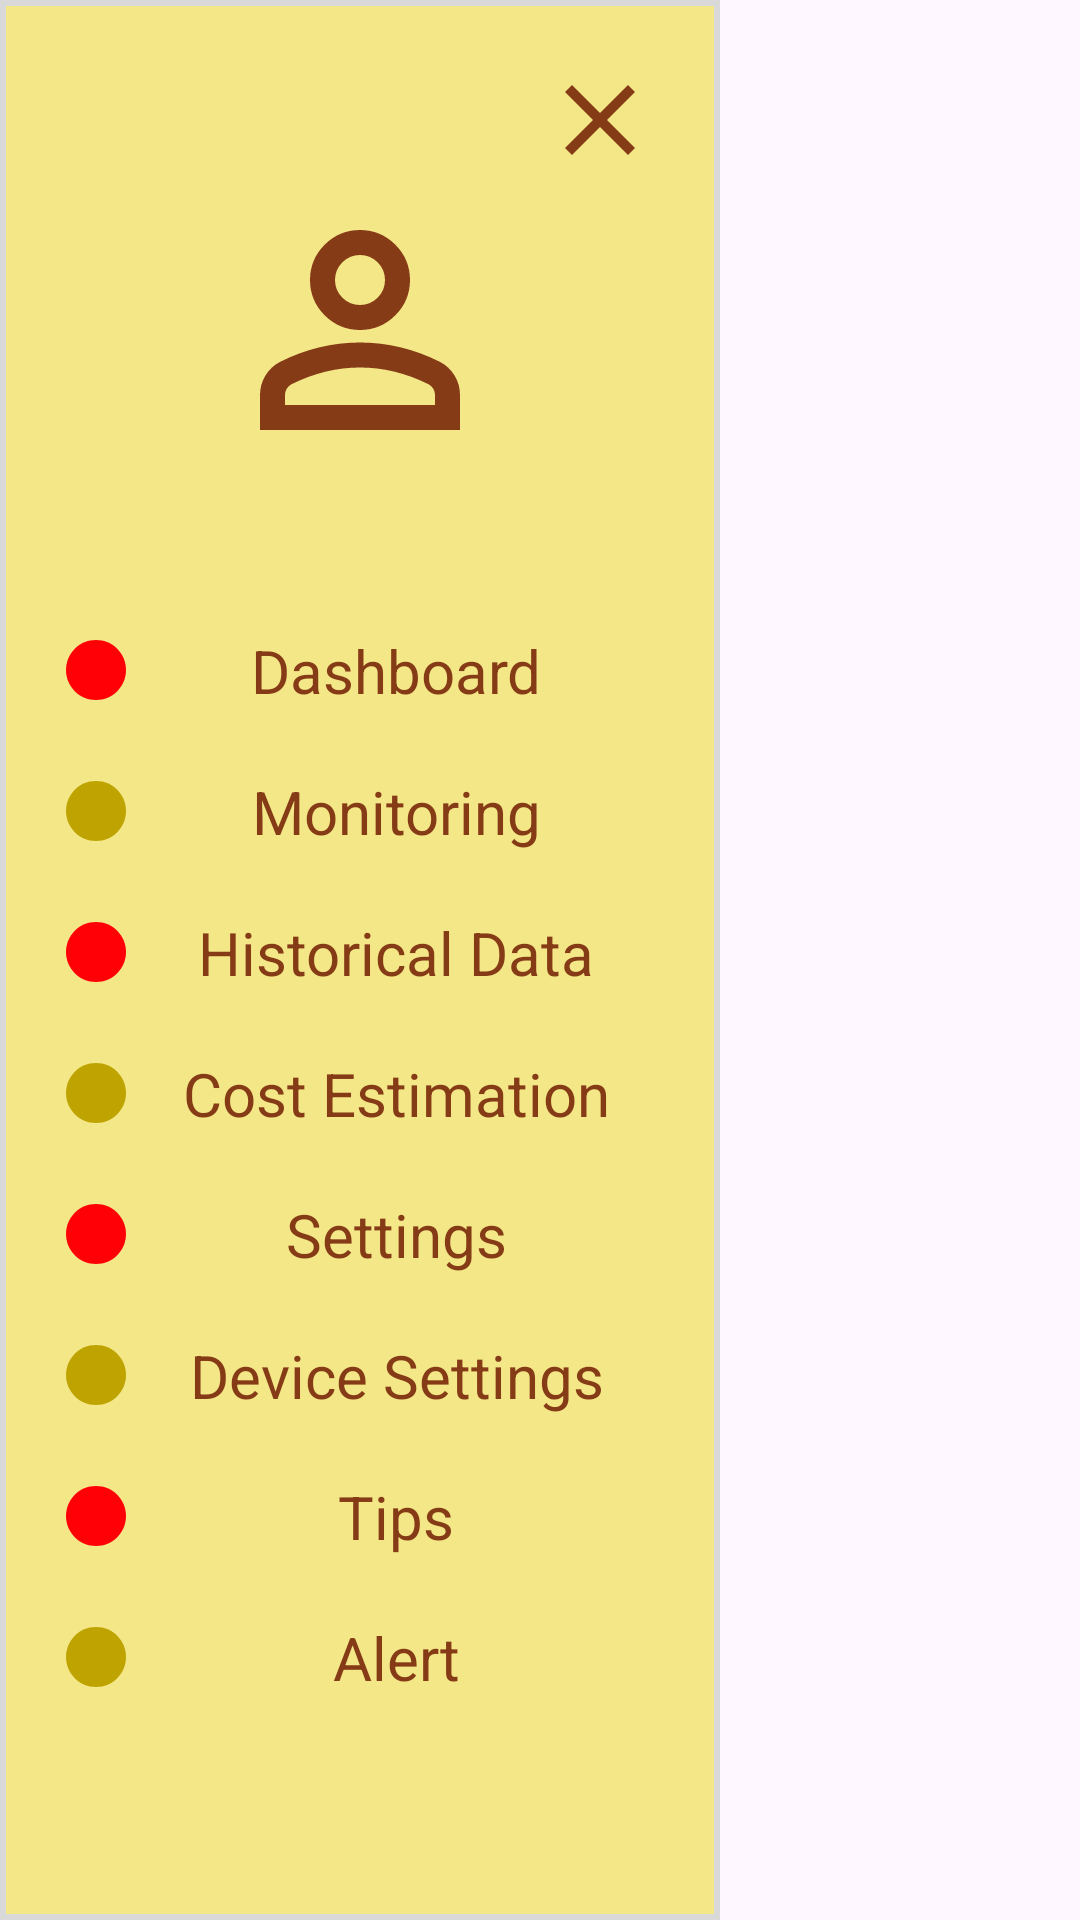

Where to tap for icons on this 1080px×1920px app screen, as [x,y]:
close: [600,120]
person: [360,330]
